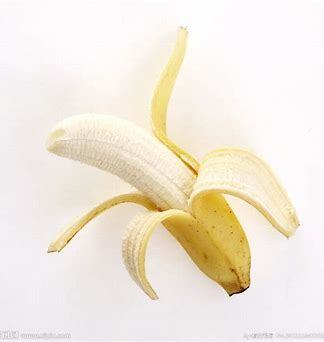banana: (44, 24, 301, 300)
